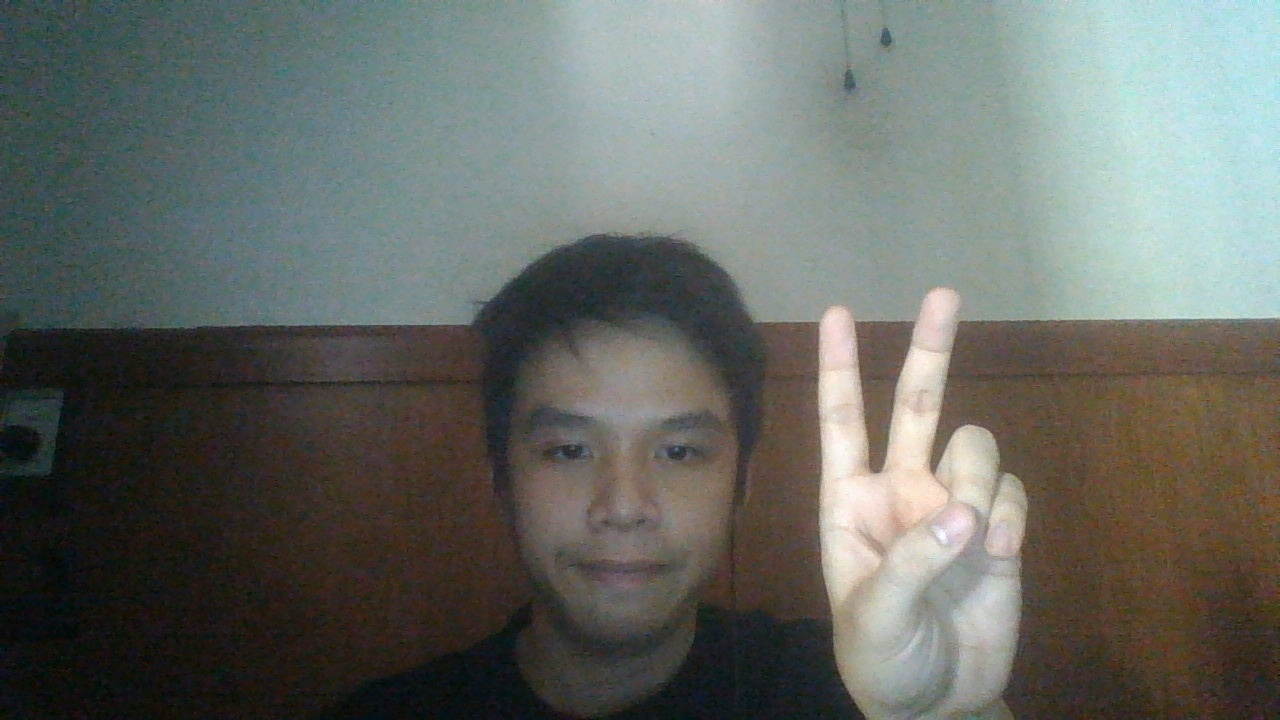wait: (812, 285, 1031, 720)
